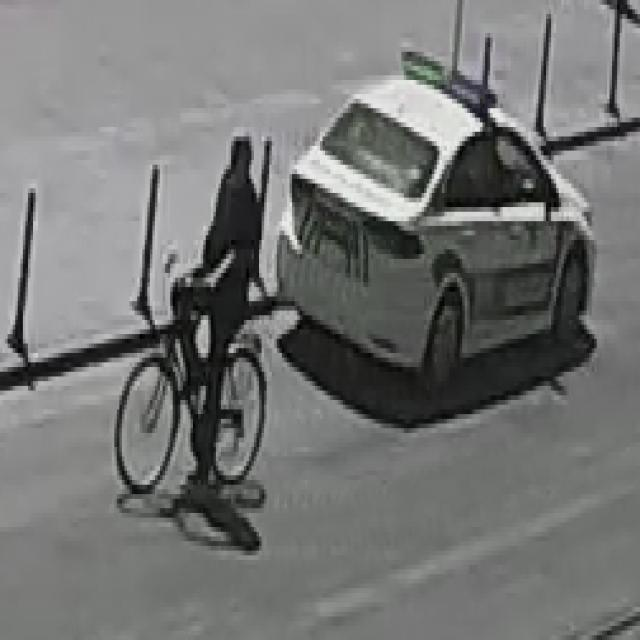Car: (270, 45, 604, 394)
Cycle: (103, 269, 290, 502)
